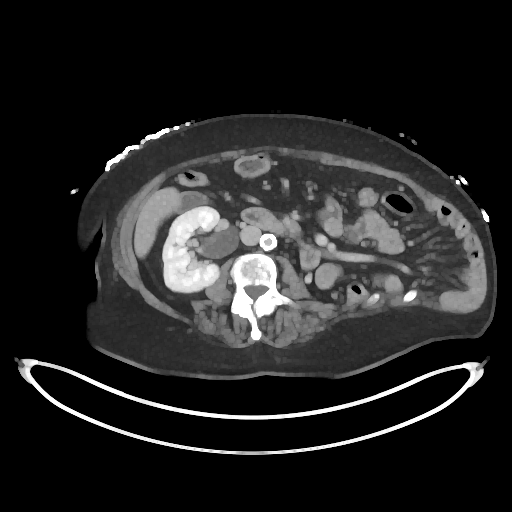Lesion: (167, 239, 181, 251)
